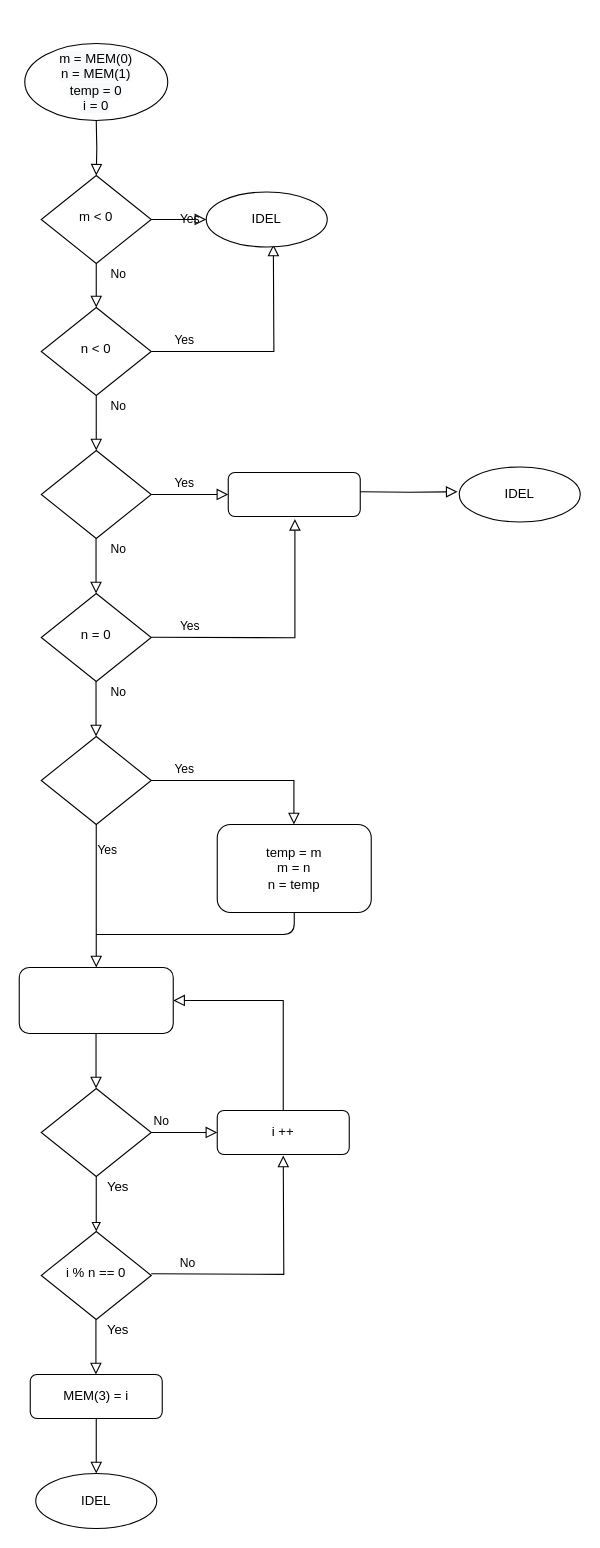
The diagram is 600 pixels wide and 1548 high, and some of its shapes have lost their labels. The shapes that lost their labels are listed below. From the top down, each one's box as (x1, y1, x2, y2) in pixels, then its label:
(40, 449, 151, 538): m = 0
(227, 471, 360, 516): MEM(3) = 0
(40, 735, 151, 824): m<n
(18, 966, 173, 1033): i = m
(40, 1087, 151, 1176): i % m == 0
